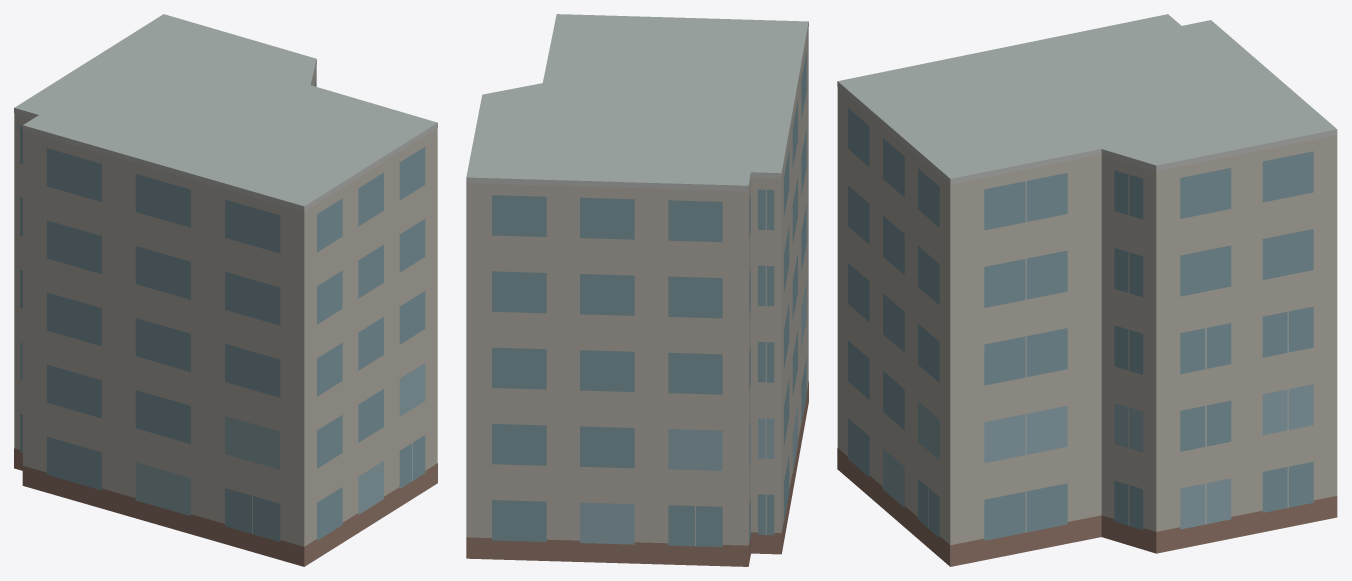
File: survey-upis-32692391.glb
3 views of the same model, side by side, from view 1: azimuth 30°, elevation 25°; view 2: azimuth 150°, elevation 25°; view 3: azimuth 270°, elevation 25° (orthographic). The views are drawn at different scales.
Parts seen in each view (by area): view 1: survey-upis-32692391.tmp; view 2: survey-upis-32692391.tmp; view 3: survey-upis-32692391.tmp.
Part boxes in pixels (x1,y1,x2,y2): survey-upis-32692391.tmp: (14,14,437,566); survey-upis-32692391.tmp: (466,14,808,566); survey-upis-32692391.tmp: (837,14,1337,566).
Size of the model in its own units: 14.95 by 16.4 by 19.16.
